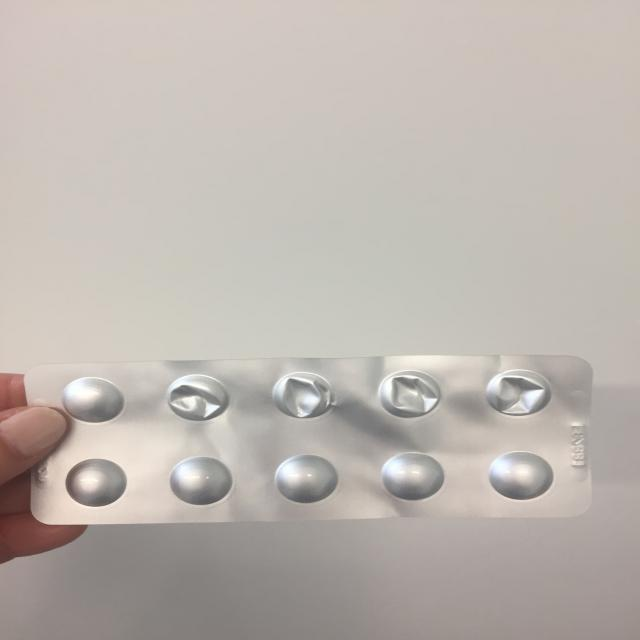Empty: (370, 365, 447, 420), (156, 371, 236, 423), (481, 367, 553, 417), (270, 370, 338, 422)
Pill: (375, 448, 453, 502), (270, 452, 348, 506), (485, 446, 560, 502), (60, 454, 133, 510), (55, 372, 125, 428), (168, 454, 240, 508)
